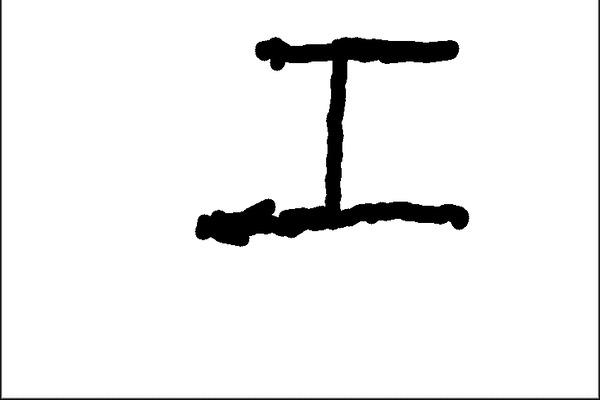i: (188, 22, 475, 250)
